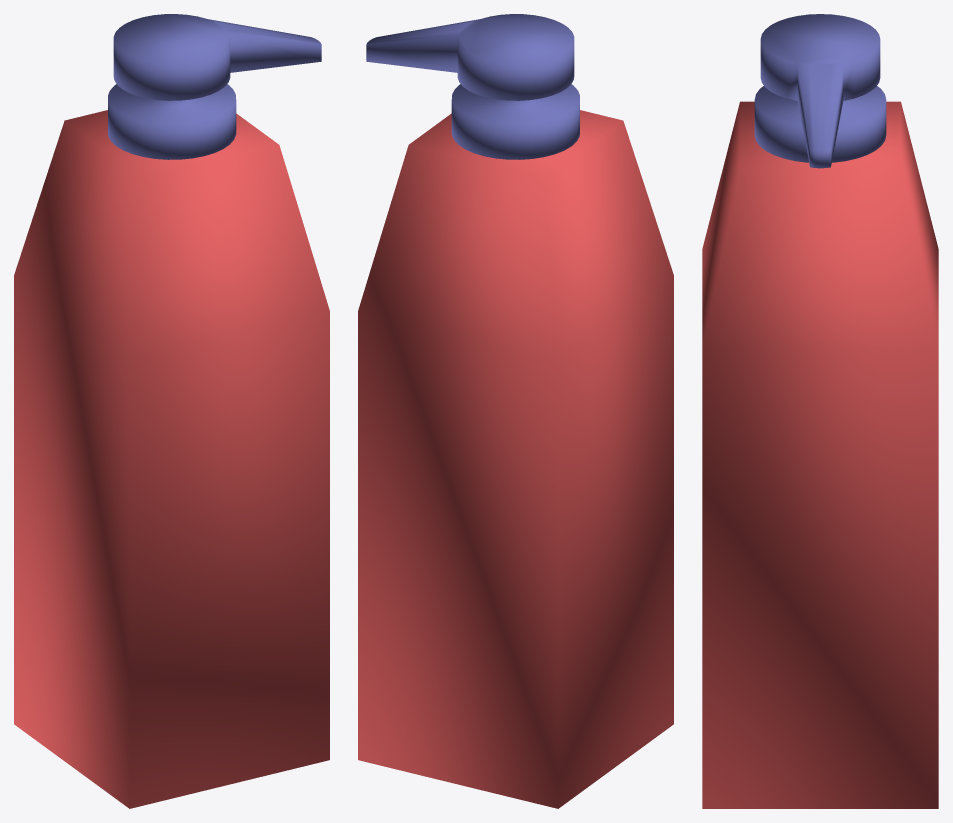
The model's file is dishwashing_detergent.glb.
The picture shows the model from 3 angles, left to right: view 1: azimuth 30°, elevation 25°; view 2: azimuth 150°, elevation 25°; view 3: azimuth 270°, elevation 25°; orthographic projection. The views are drawn at different scales.
Visible parts, largest first — view 1: Cube.065, Cylinder.033; view 2: Cube.065, Cylinder.033; view 3: Cube.065, Cylinder.033.
Boxes of the visible parts, left/top/right/bottom form: Cube.065: left=14, top=110, right=329, bottom=808; Cylinder.033: left=108, top=14, right=321, bottom=159; Cube.065: left=358, top=110, right=673, bottom=808; Cylinder.033: left=366, top=14, right=579, bottom=159; Cube.065: left=702, top=101, right=938, bottom=808; Cylinder.033: left=754, top=14, right=886, bottom=168.
Bounding box in the file's own units: 0.105 × 0.2862 × 0.0852.
